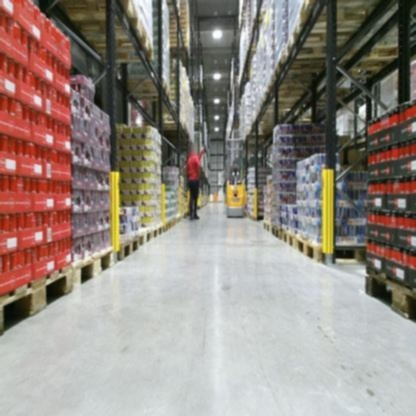pallets: (0, 261, 76, 338), (119, 213, 185, 266), (364, 270, 415, 324), (265, 226, 323, 263), (73, 250, 111, 285), (10, 282, 41, 318), (242, 215, 263, 223)
